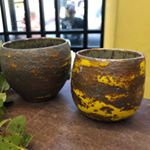other: (70, 46, 147, 124)
